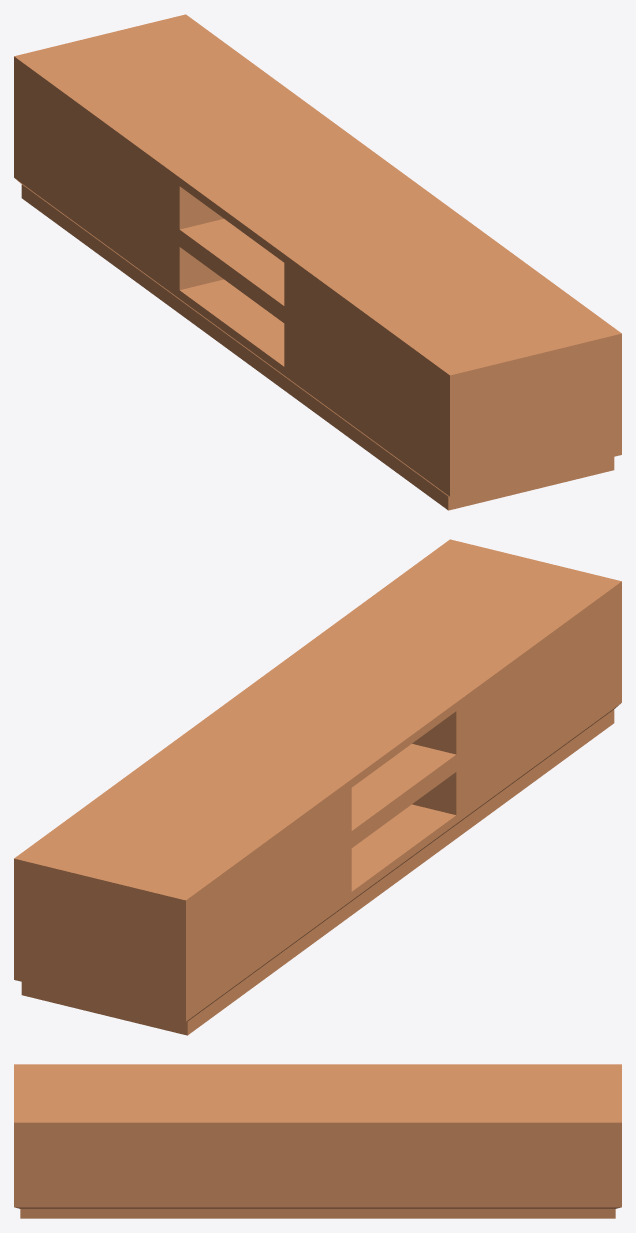
Rendered from zaotaizhuozi.fbx.
3 renders of one model, top to bottom at view 1: azimuth 30°, elevation 25°; view 2: azimuth 150°, elevation 25°; view 3: azimuth 270°, elevation 25°, orthographic. The views are drawn at different scales.
Parts seen in each view (by area): view 1: 台子2; view 2: 台子2; view 3: 台子2.
Boxes of the visible parts, x1=… form: 台子2: x1=14, y1=14, x2=621, y2=510; 台子2: x1=14, y1=539, x2=621, y2=1035; 台子2: x1=14, y1=1064, x2=621, y2=1218.
Size of the model in its own units: 15.62 by 12.09 by 68.6.
